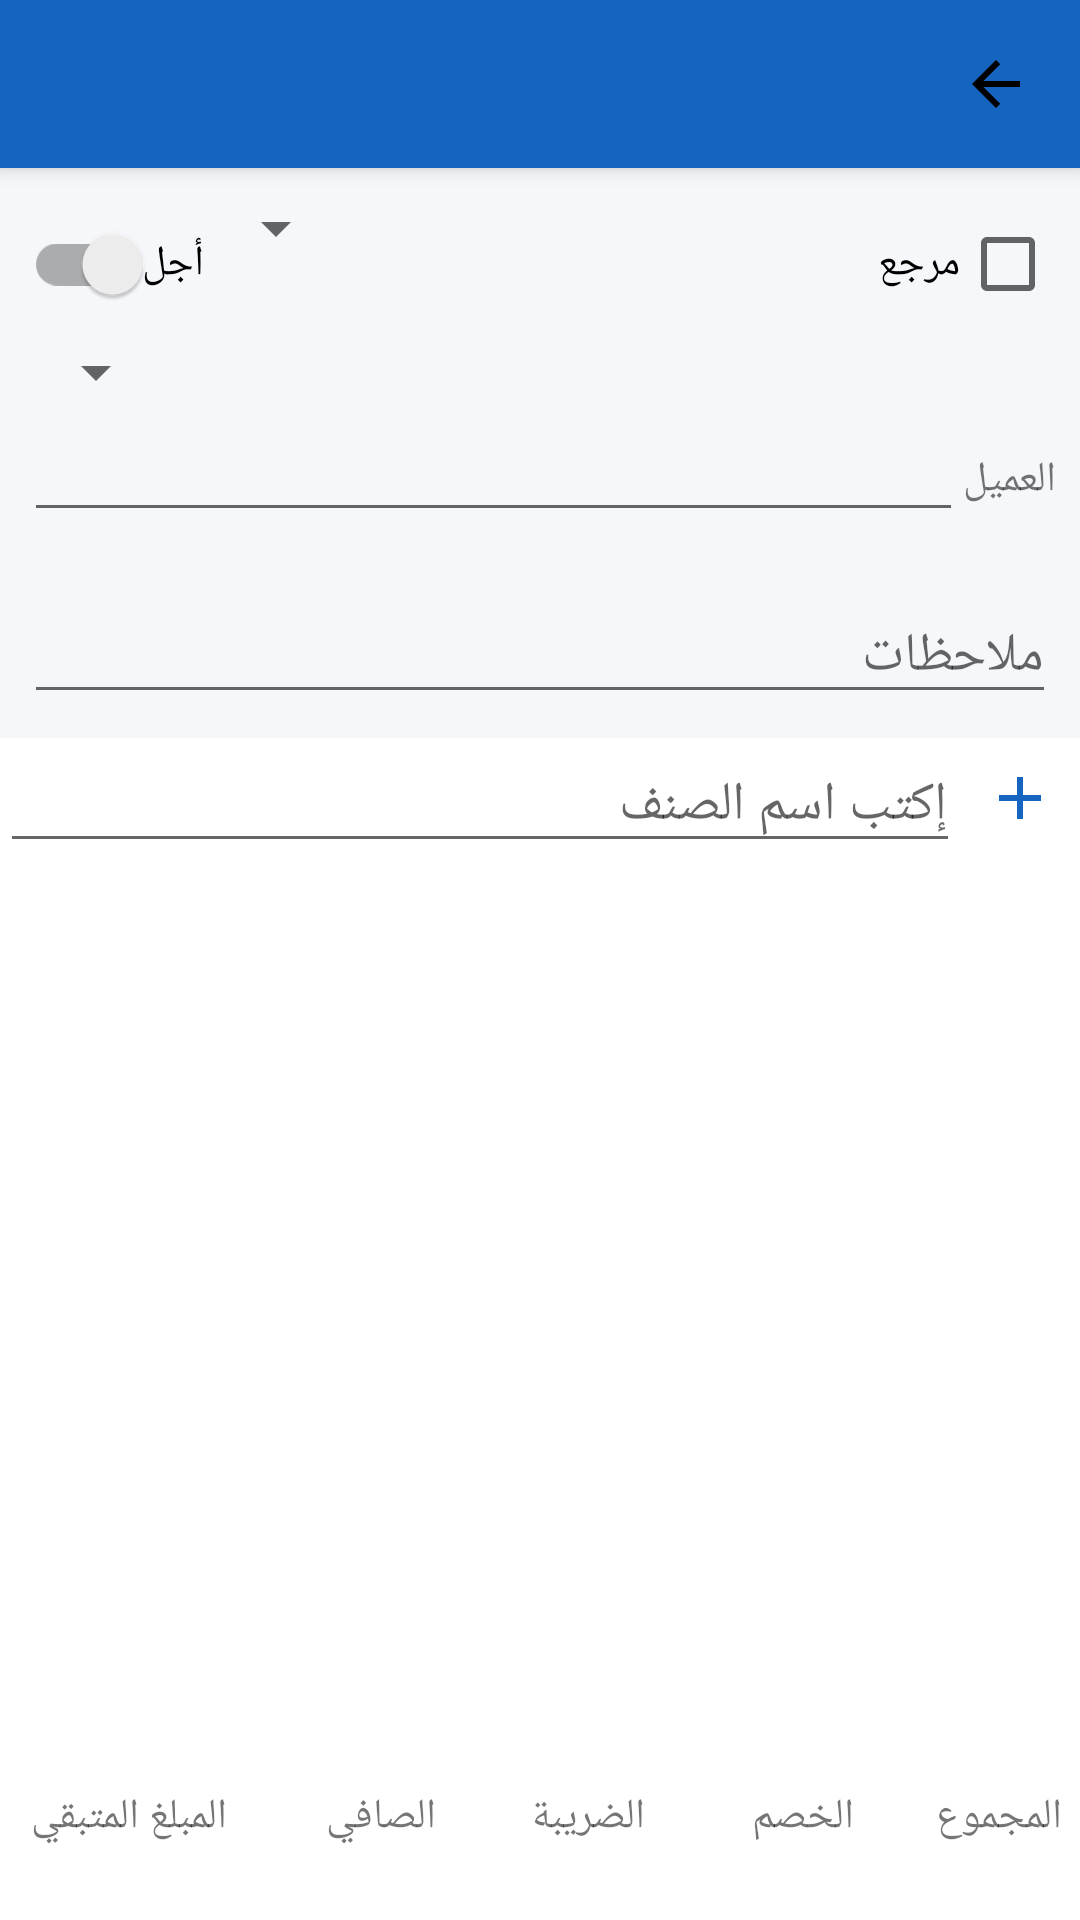

Icons on this 1080*1920 Android screen, each with its box as (x1, y1, x2, y2):
إضافة: (999, 777, 1041, 819)
